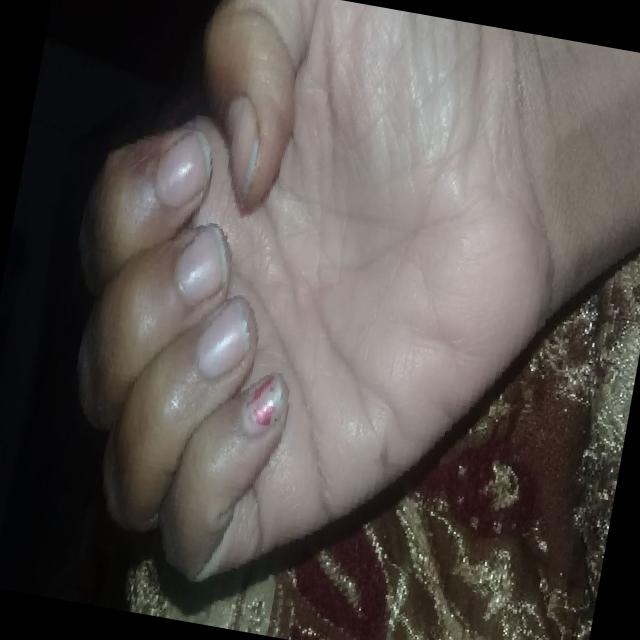Nail: (196, 297, 250, 377), (174, 223, 228, 303), (155, 130, 210, 206), (225, 94, 260, 200), (242, 373, 283, 435)
